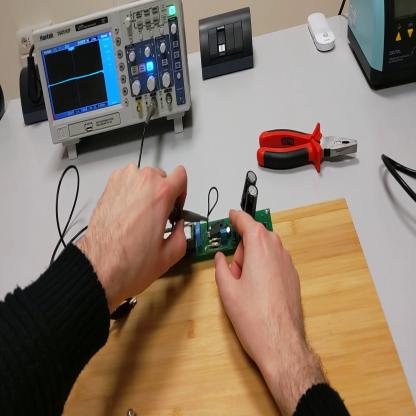hand: (215, 207, 310, 377), (87, 163, 188, 302)
high voltage board: (164, 171, 274, 261)
oscilloscope: (33, 1, 196, 161)
oscilloscope probe tip: (168, 208, 209, 227)
pliers: (255, 116, 360, 180)
socket: (19, 60, 48, 128)
welder station: (349, 1, 416, 93)
working area: (64, 199, 416, 415)
